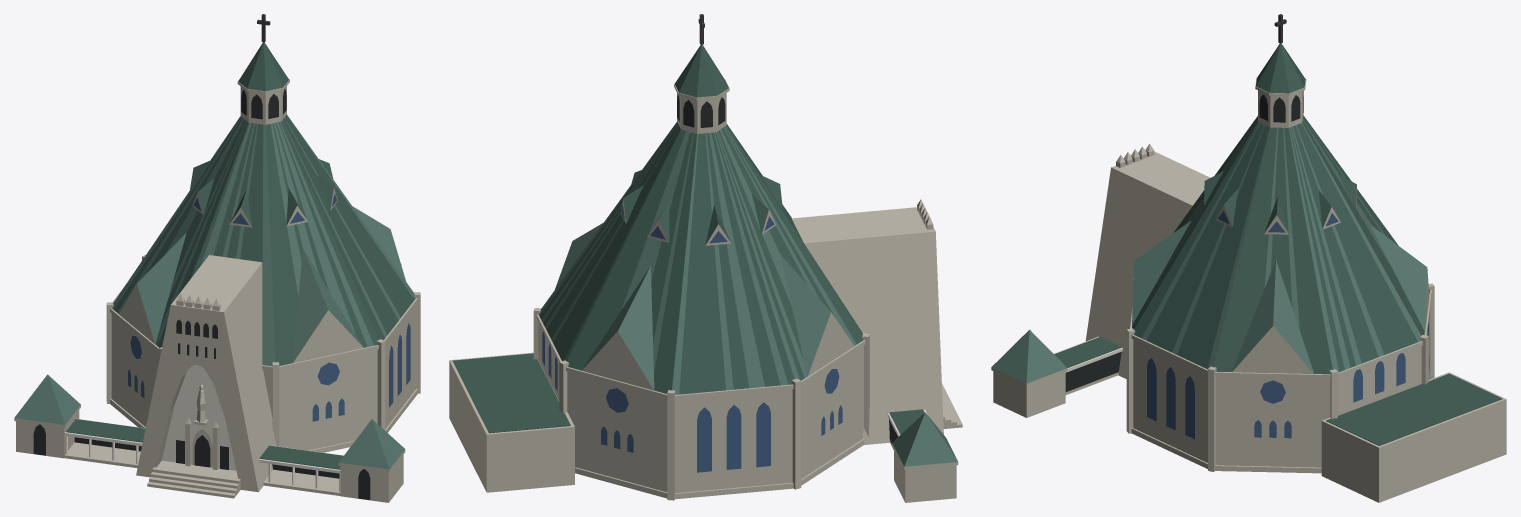
The model's file is notre-dame-du-cap-far.glb.
The picture shows the model from 3 angles, left to right: view 1: azimuth 30°, elevation 25°; view 2: azimuth 150°, elevation 25°; view 3: azimuth 270°, elevation 25°; orthographic projection. The views are drawn at different scales.
Parts seen in each view (by area): view 1: notre-dame-du-cap-0-stone, notre-dame-du-cap-0-copperDark, notre-dame-du-cap-0-copper, notre-dame-du-cap-0-plaster, notre-dame-du-cap-0-dark, notre-dame-du-cap-0-glow; view 2: notre-dame-du-cap-0-stone, notre-dame-du-cap-0-copperDark, notre-dame-du-cap-0-copper, notre-dame-du-cap-0-glow, notre-dame-du-cap-0-dark; view 3: notre-dame-du-cap-0-stone, notre-dame-du-cap-0-copperDark, notre-dame-du-cap-0-copper, notre-dame-du-cap-0-glow, notre-dame-du-cap-0-dark.
Boxes of the visible parts, <box> form: notre-dame-du-cap-0-stone: <box>14,79,420,502</box>; notre-dame-du-cap-0-copperDark: <box>66,42,414,469</box>; notre-dame-du-cap-0-copper: <box>14,115,415,469</box>; notre-dame-du-cap-0-plaster: <box>64,364,343,491</box>; notre-dame-du-cap-0-dark: <box>33,89,370,499</box>; notre-dame-du-cap-0-glow: <box>128,193,410,421</box>; notre-dame-du-cap-0-stone: <box>449,79,962,502</box>; notre-dame-du-cap-0-copperDark: <box>452,44,924,434</box>; notre-dame-du-cap-0-copper: <box>539,122,957,466</box>; notre-dame-du-cap-0-glow: <box>542,205,842,472</box>; notre-dame-du-cap-0-dark: <box>677,95,897,443</box>; notre-dame-du-cap-0-stone: <box>991,77,1506,502</box>; notre-dame-du-cap-0-copperDark: <box>1054,43,1502,445</box>; notre-dame-du-cap-0-copper: <box>991,117,1427,383</box>; notre-dame-du-cap-0-glow: <box>1147,191,1429,439</box>; notre-dame-du-cap-0-dark: <box>1065,91,1303,391</box>.
Bounding box in the file's own units: 92.14 × 78.6 × 93.01.
